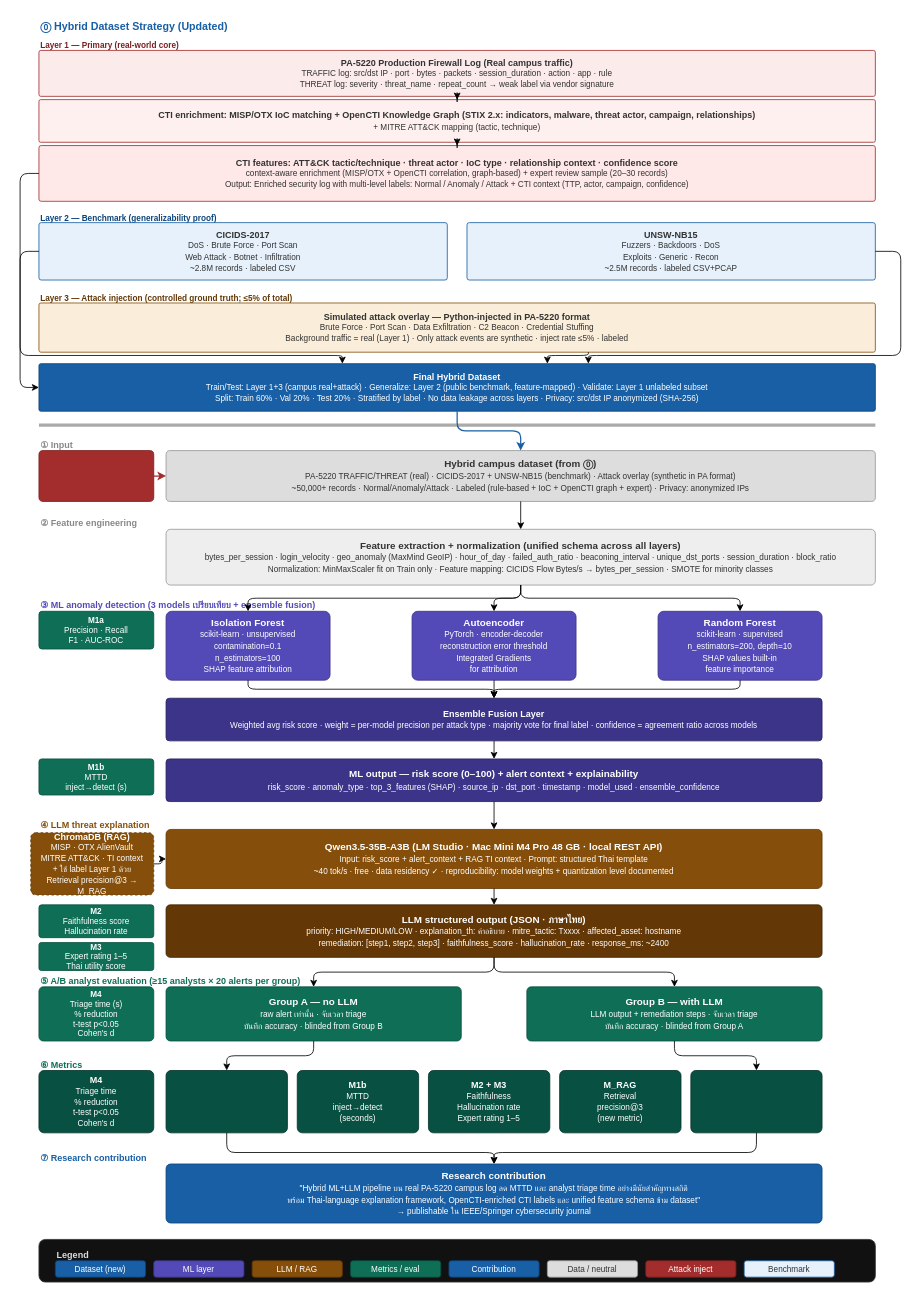
The diagram is 922 pixels wide and 1296 high, and some of its shapes have lost their labels. The centre of each missing label's shape, as x and y in pixels:
5 attack scenarios Brute Force · Port Scan Data Exfil · C2 Beacon Cred. Stuffing: point (96, 475)
M1a Precision Recall · F1 AUC-ROC: point (226, 1101)
M4 Analyst triage time % reduction t-test p<0.05 Cohen's d: point (756, 1101)
